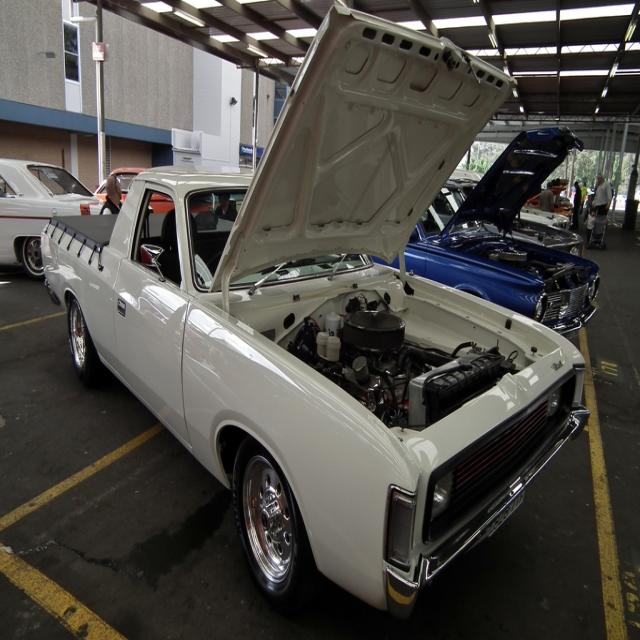car: (33, 3, 585, 595), (0, 152, 114, 279)
